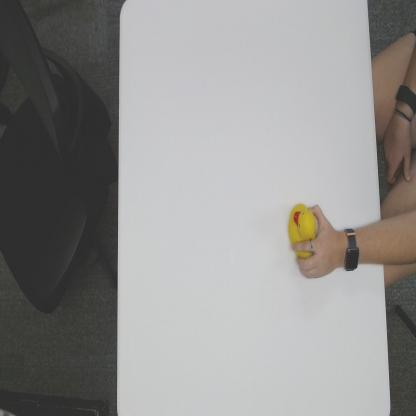Arm: (360, 217, 384, 268)
Duck: (286, 200, 319, 259)
Hand: (291, 204, 340, 279)
